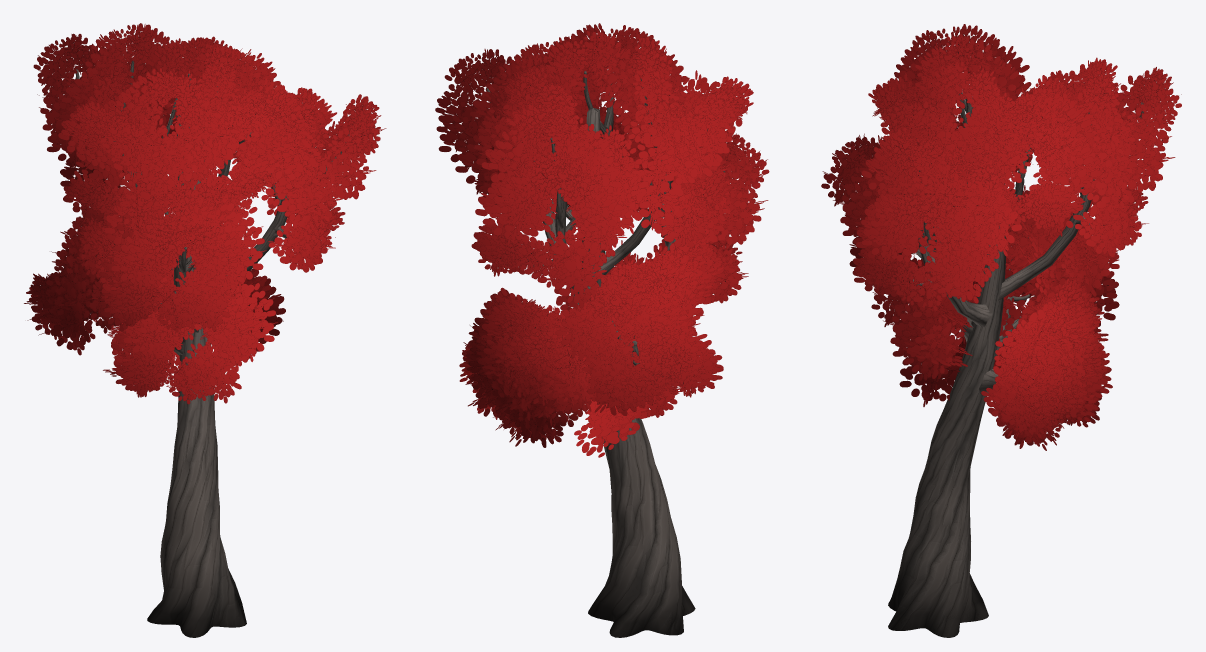
Rendered from TwistedTree_5.gltf.
3 renders of one model, left to right at view 1: azimuth 30°, elevation 25°; view 2: azimuth 150°, elevation 25°; view 3: azimuth 270°, elevation 25°, orthographic. The views are drawn at different scales.
Visible parts, largest first — view 1: TwistedTree_5; view 2: TwistedTree_5; view 3: TwistedTree_5.
Boxes of the visible parts, <box> form: TwistedTree_5: <box>24,23,386,637</box>; TwistedTree_5: <box>435,23,769,637</box>; TwistedTree_5: <box>821,24,1181,637</box>.
Bounding box in the file's own units: 9.49 × 15.66 × 9.39.
Materials: 2 (2 with a texture image).
